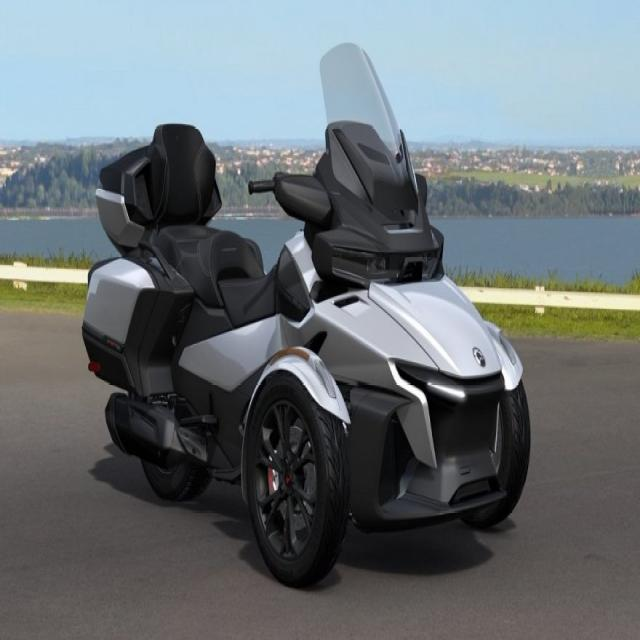Bike: (81, 41, 533, 592)
